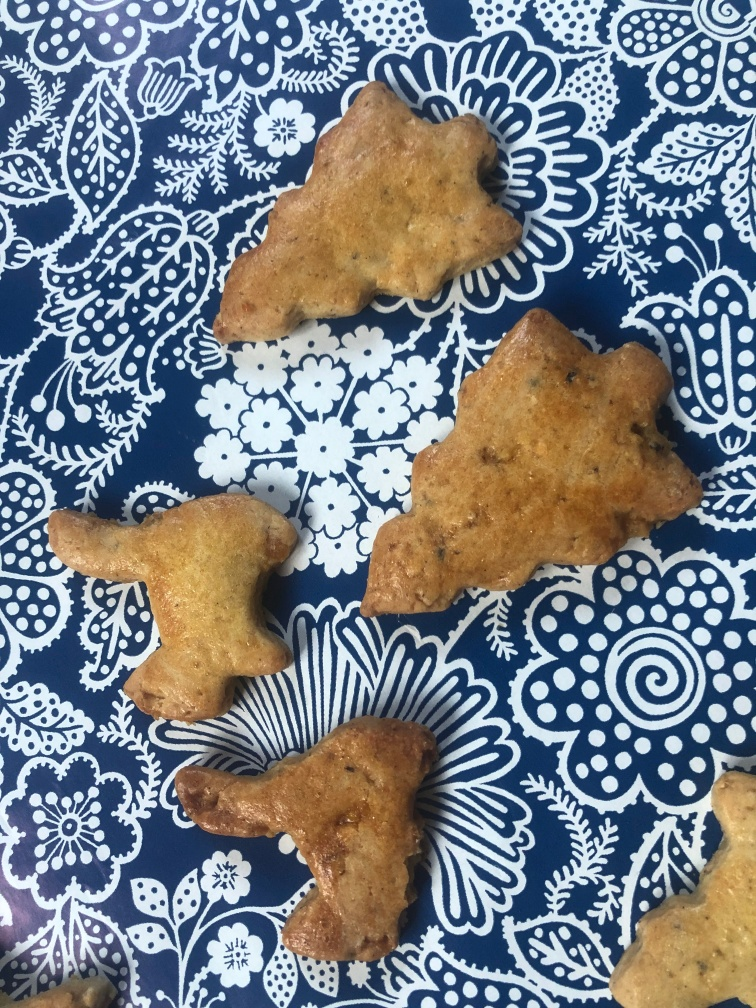christmas tree: (362, 306, 700, 617), (210, 79, 521, 343)
squirrel: (174, 712, 435, 961), (47, 488, 304, 722)
